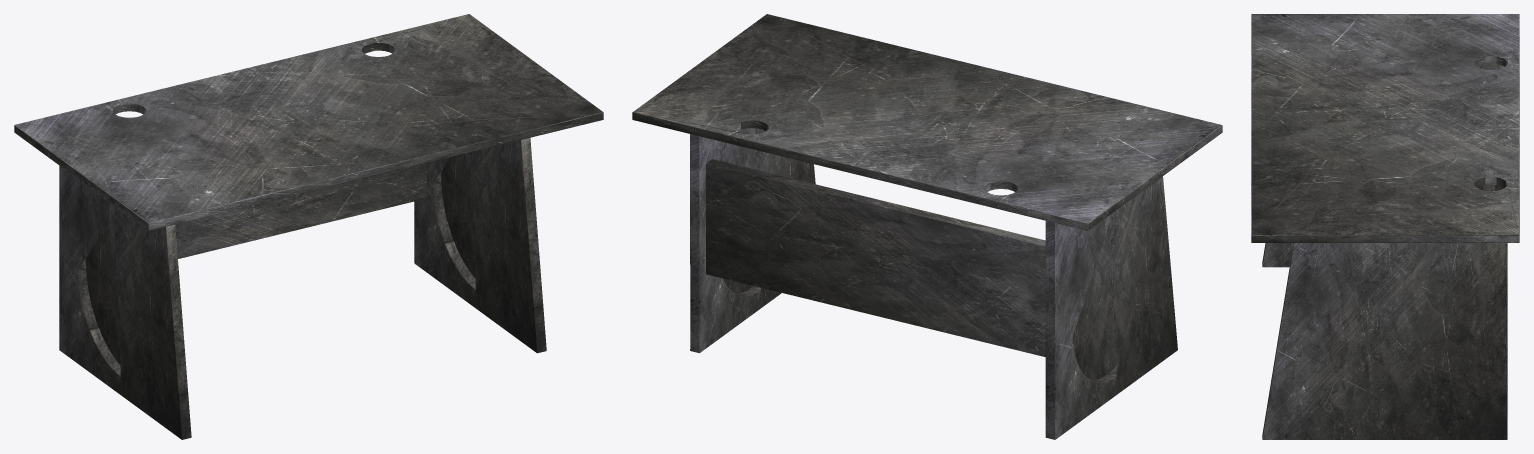
File: metal_table_002.fbx
The picture shows the model from 3 angles, left to right: view 1: azimuth 30°, elevation 25°; view 2: azimuth 150°, elevation 25°; view 3: azimuth 270°, elevation 25°; orthographic projection.
Visible parts, largest first — view 1: polySurface1, polySurface5, polySurface4, polySurface3; view 2: polySurface1, polySurface3, polySurface5, polySurface4; view 3: polySurface1, polySurface4, polySurface5.
Part boxes in pixels (left/top/right/bottom): polySurface1: left=14, top=14, right=603, bottom=230; polySurface5: left=59, top=165, right=191, bottom=439; polySurface4: left=414, top=138, right=546, bottom=353; polySurface3: left=175, top=163, right=426, bottom=258; polySurface1: left=632, top=14, right=1222, bottom=230; polySurface3: left=706, top=159, right=1045, bottom=356; polySurface5: left=1045, top=176, right=1177, bottom=439; polySurface4: left=690, top=128, right=815, bottom=353; polySurface1: left=1251, top=14, right=1519, bottom=242; polySurface4: left=1262, top=243, right=1507, bottom=439; polySurface5: left=1262, top=63, right=1504, bottom=267.
Size of the model in its own units: 0.604 by 0.292 by 0.3092.
1 material, 1 textured.
